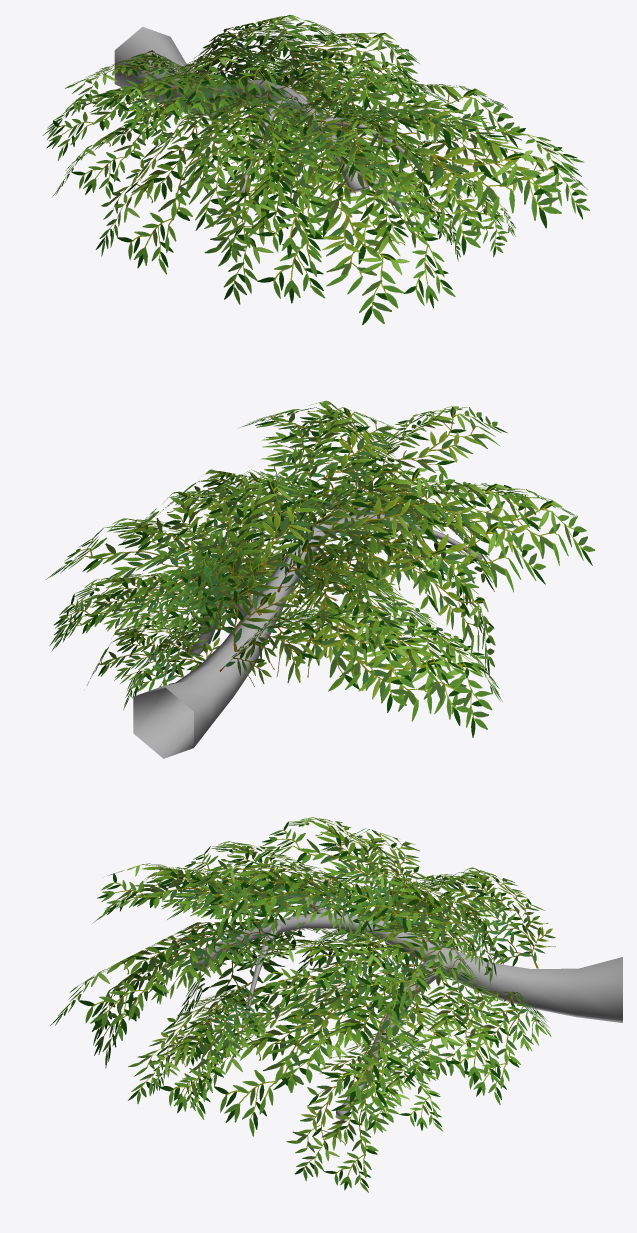
The model's file is FFP ppg_Tree_05.fbx.
3 views of the same model, one above another, from view 1: azimuth 30°, elevation 25°; view 2: azimuth 150°, elevation 25°; view 3: azimuth 270°, elevation 25° (orthographic). The views are drawn at different scales.
Visible parts, largest first — view 1: polySurface1; view 2: polySurface1; view 3: polySurface1.
Part boxes in pixels (x1,y1,x2,y2): polySurface1: [42, 15, 590, 324]; polySurface1: [46, 400, 595, 758]; polySurface1: [50, 817, 622, 1192].
Size of the model in its own units: 27.04 by 15.88 by 31.05.
